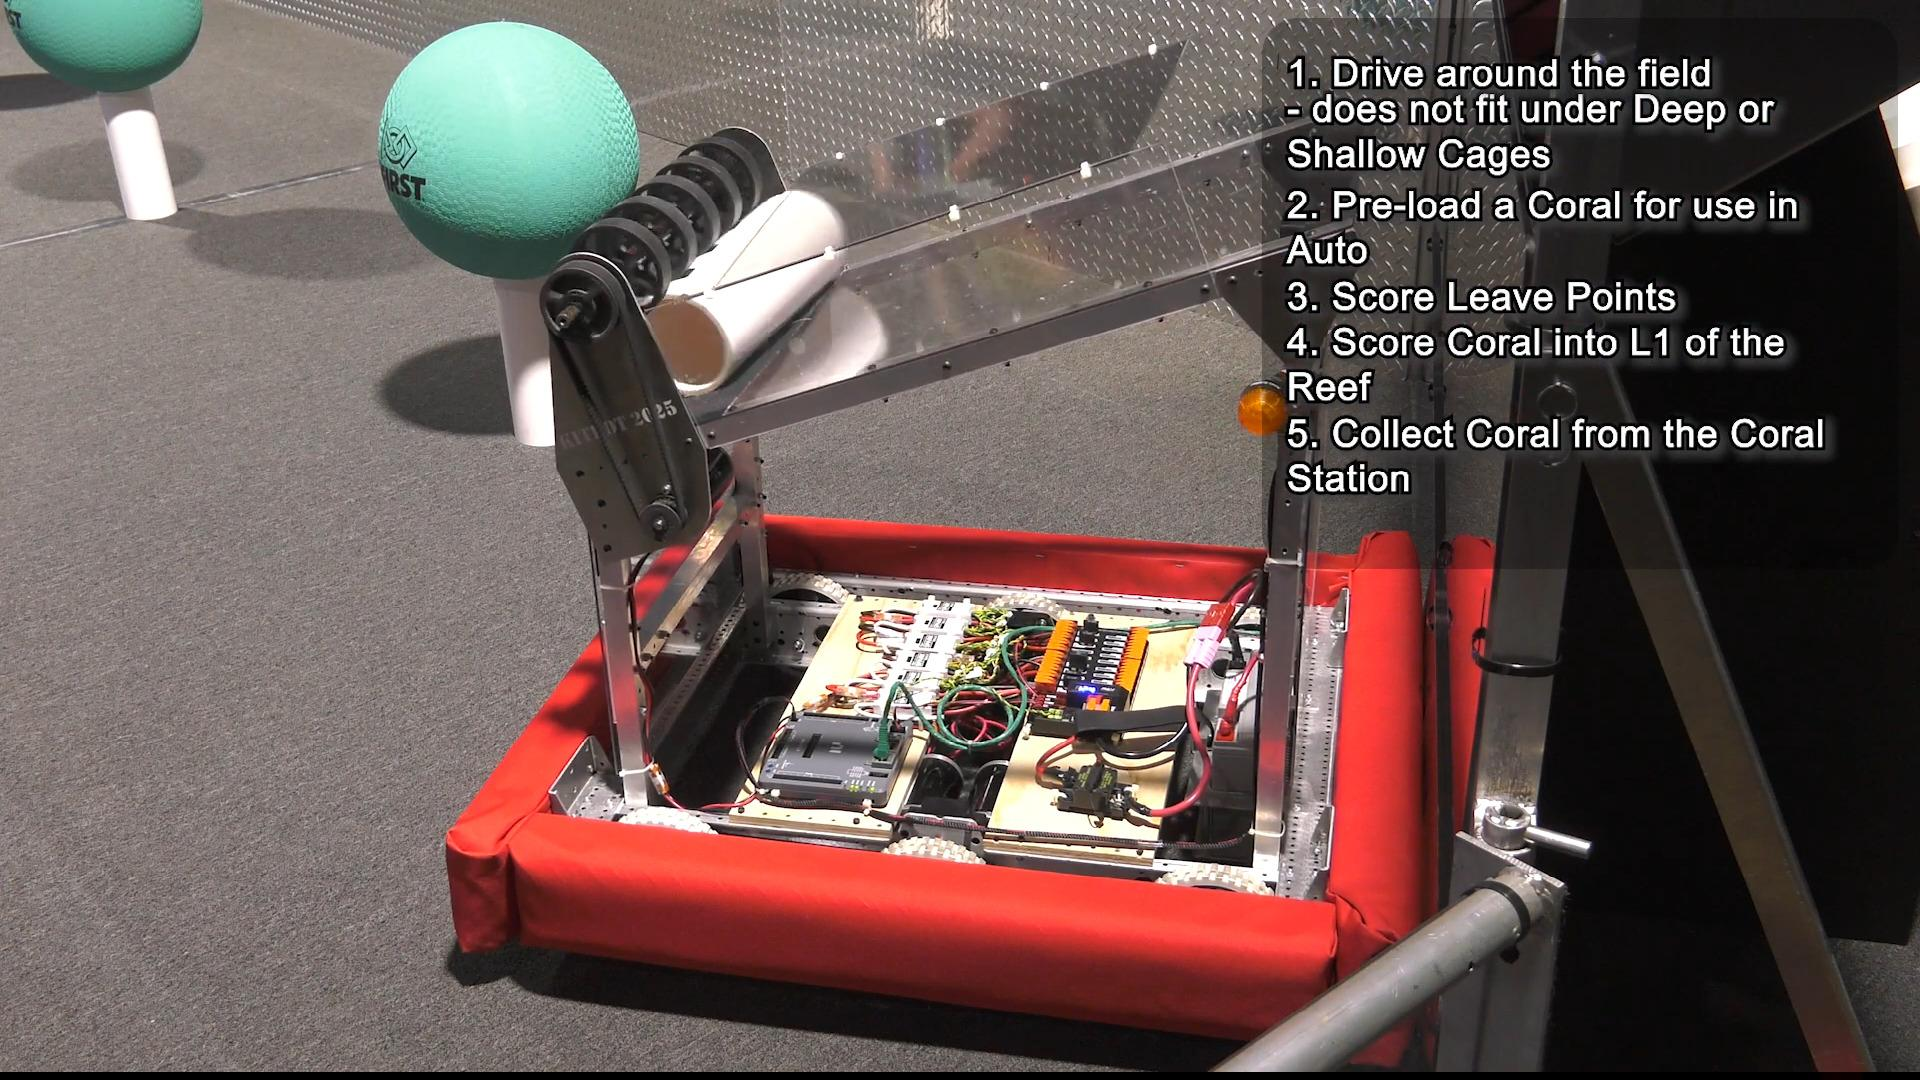coral: (640, 185, 848, 396), (492, 276, 576, 447), (96, 83, 178, 220)
